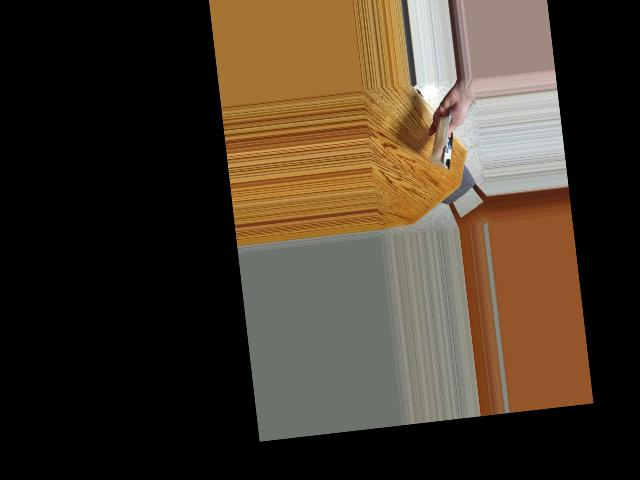cheese: (420, 113, 469, 169)
